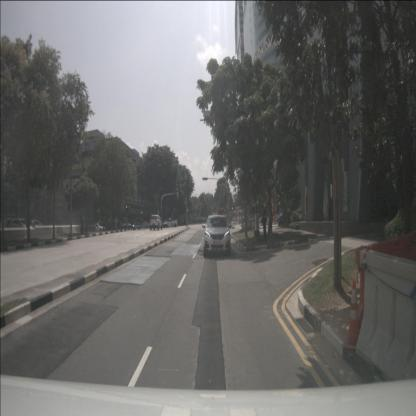human-pedestrian-adult: (262, 204, 268, 243)
movable_object-barrier: (355, 247, 415, 390), (355, 229, 416, 336)
movable_object-trafficcone: (343, 279, 360, 352)
vehicle-car: (203, 215, 231, 256), (10, 218, 33, 236), (149, 215, 163, 230), (30, 220, 44, 232), (162, 218, 178, 228), (122, 222, 135, 230)
vehicle-truck: (90, 223, 105, 232)
